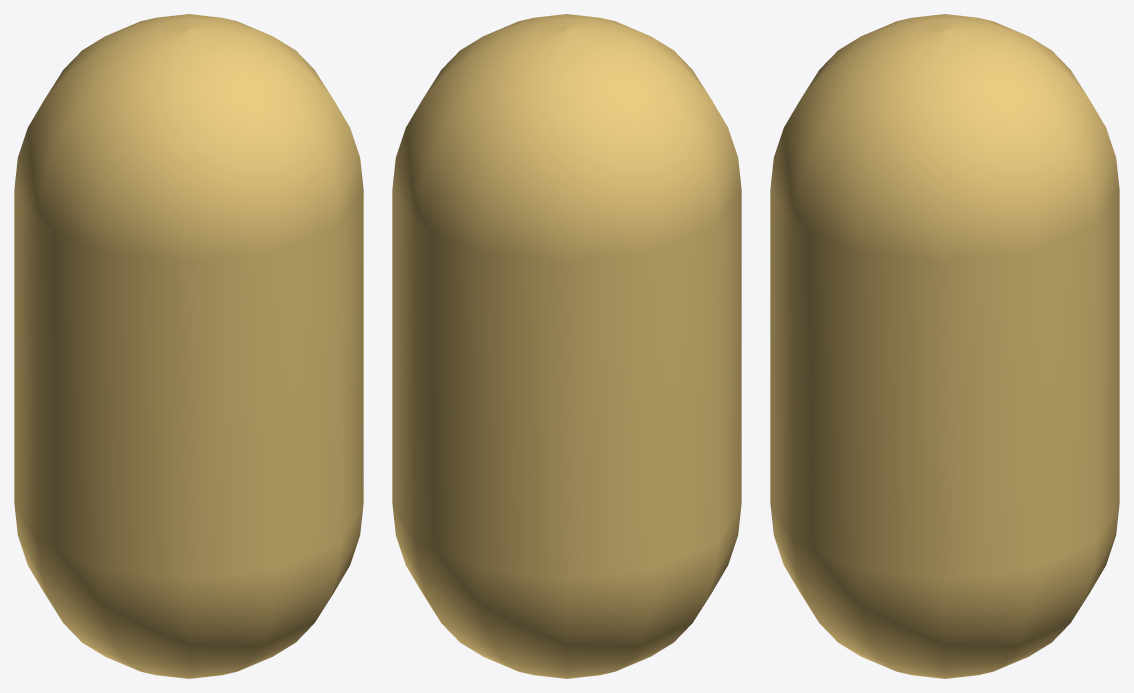
The model's file is p0631-obmelenie-bukhty.glb.
3 renders of one model, left to right at view 1: azimuth 30°, elevation 25°; view 2: azimuth 150°, elevation 25°; view 3: azimuth 270°, elevation 25°, orthographic.
Visible parts, largest first — view 1: p0631-obmelenie-bukhty; view 2: p0631-obmelenie-bukhty; view 3: p0631-obmelenie-bukhty.
Part boxes in pixels (left/top/right/bottom): p0631-obmelenie-bukhty: left=14, top=14, right=363, bottom=678; p0631-obmelenie-bukhty: left=392, top=14, right=741, bottom=678; p0631-obmelenie-bukhty: left=770, top=14, right=1119, bottom=678.
Size of the model in its own units: 0.75 by 1.5 by 0.75.
